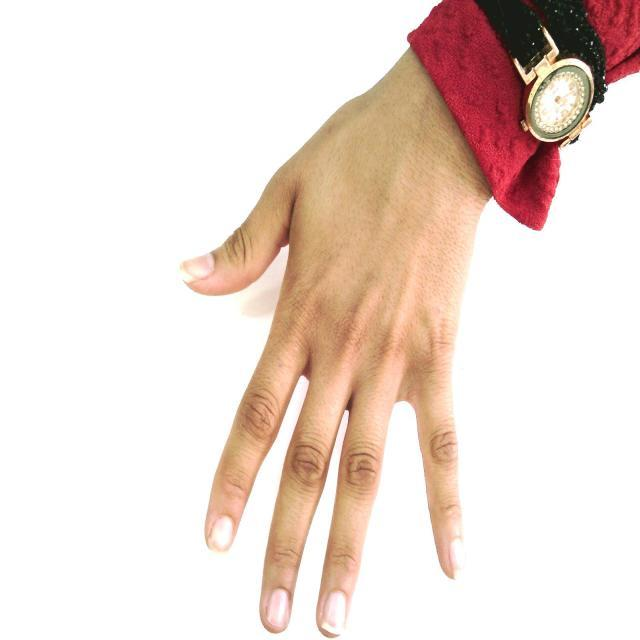Fingernail: (177, 254, 216, 283), (322, 592, 346, 634), (266, 590, 289, 627), (210, 517, 233, 551), (451, 539, 468, 578)
